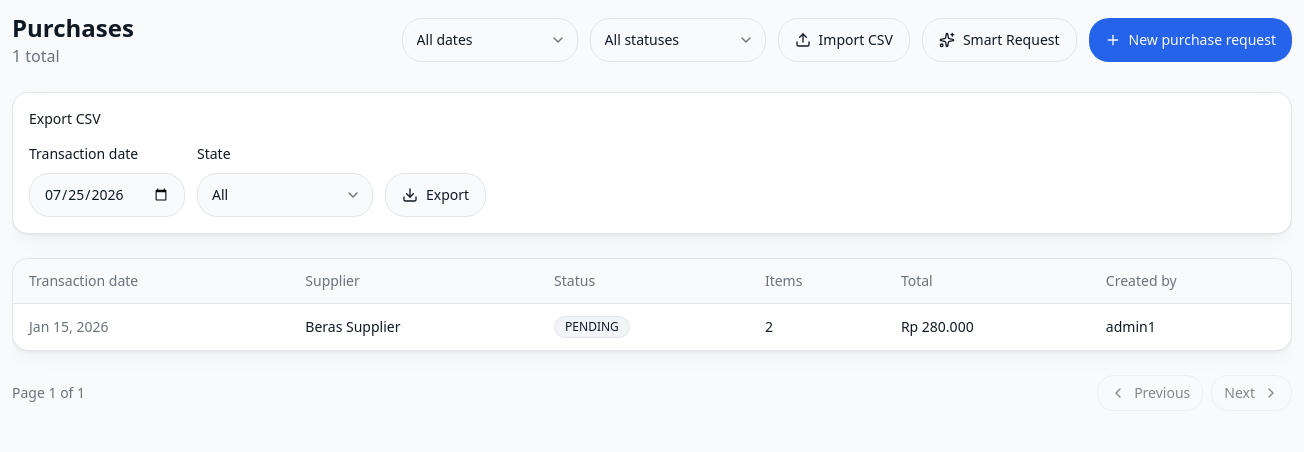
Scenario: AdminPurchasesPage › shows inline validation errors and error toast when export fails
The width and height of the screenshot is (1304, 452).
Expected: the text "Beras Supplier" is shown, x1=289 y1=304 x2=538 y2=350
Step 1. Click the button "Export" → [436, 195], box x1=385 y1=173 x2=486 y2=217
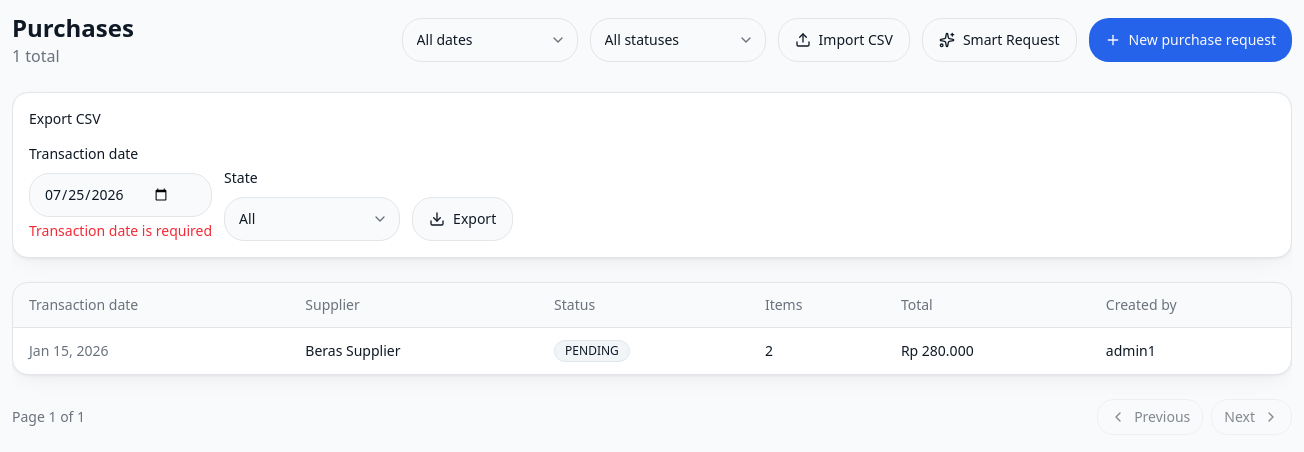
Result: the text "Transaction date is required" is shown at x1=29 y1=221 x2=212 y2=241
